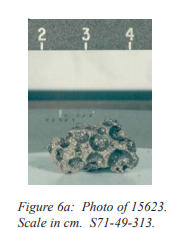Basalt: (28, 115, 150, 183)
